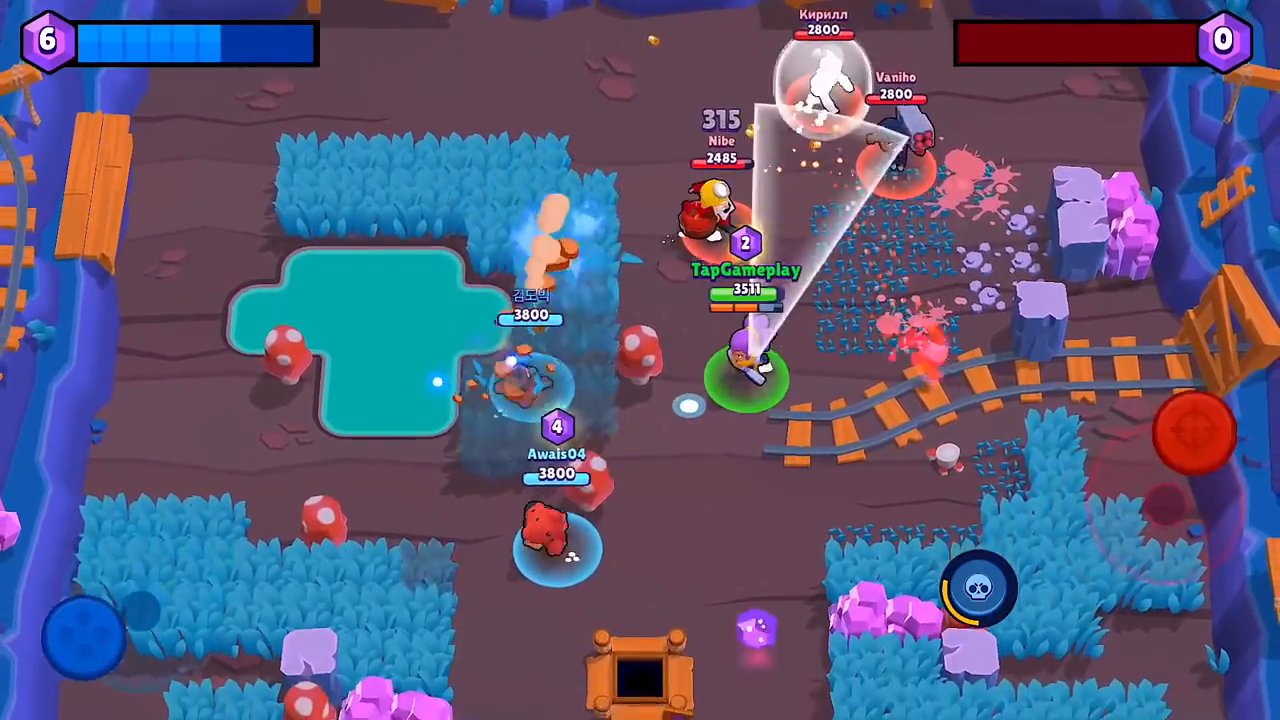move_stick: (53, 600, 115, 672)
red: (671, 149, 755, 269), (865, 77, 942, 200), (786, 6, 846, 151)
